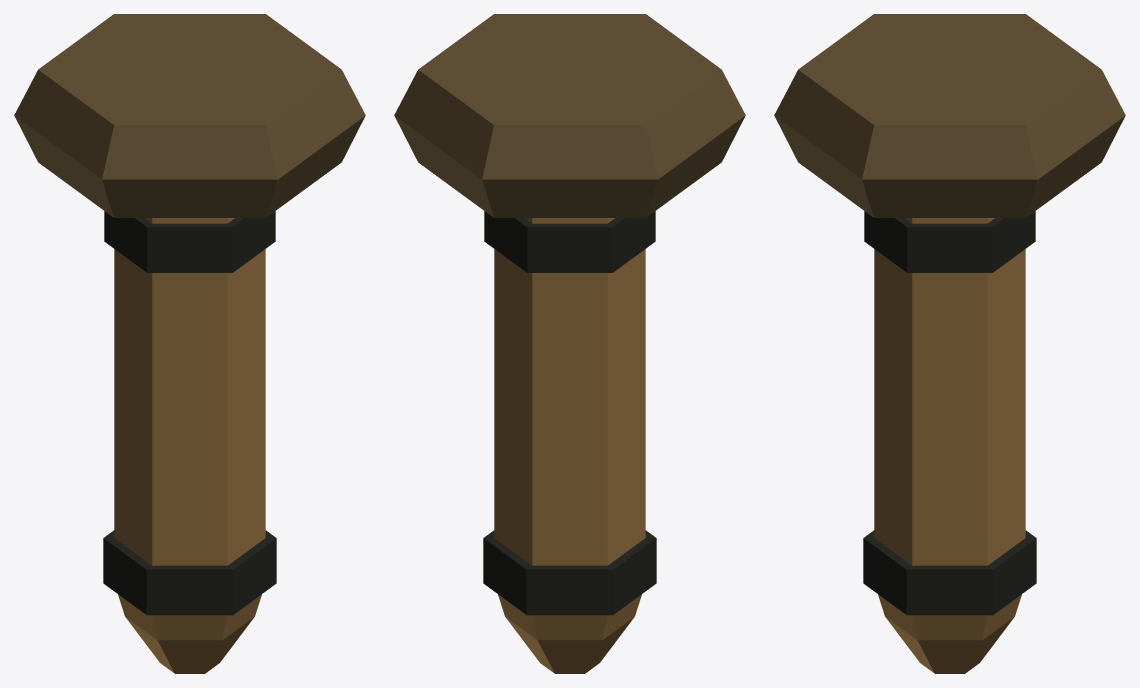
Rendered from Pins.fbx.
The picture shows the model from 3 angles, left to right: view 1: azimuth 30°, elevation 25°; view 2: azimuth 150°, elevation 25°; view 3: azimuth 270°, elevation 25°; orthographic projection.
Parts seen in each view (by area): view 1: Circle; view 2: Circle; view 3: Circle.
Part boxes in pixels (bbox=[...]): Circle: bbox=[14, 14, 365, 673]; Circle: bbox=[394, 14, 745, 673]; Circle: bbox=[774, 14, 1125, 673].
Bounding box in the file's own units: 107 × 229 × 123.
